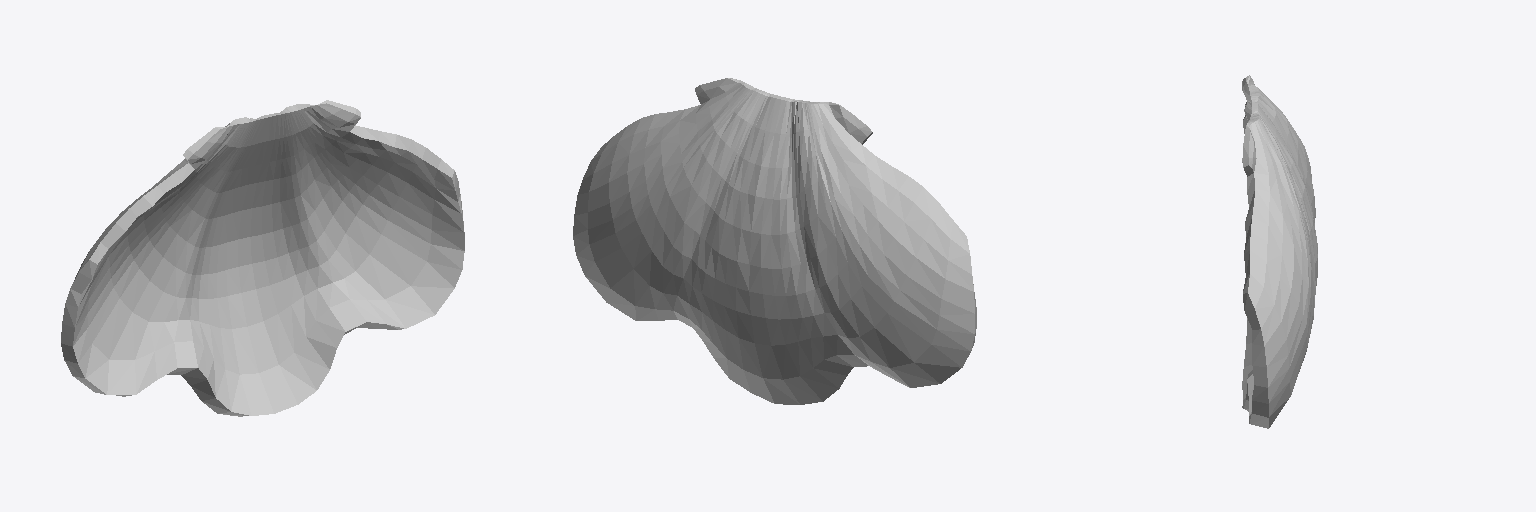
The model's file is clam_v3.OBJ.
3 renders of one model, left to right at view 1: azimuth 30°, elevation 25°; view 2: azimuth 150°, elevation 25°; view 3: azimuth 270°, elevation 25°, orthographic.
Visible parts, largest first — view 1: ZBrushPolyMesh3D; view 2: ZBrushPolyMesh3D; view 3: ZBrushPolyMesh3D.
Part boxes in pixels (x1,y1,x2,y2): ZBrushPolyMesh3D: (61, 100, 464, 416); ZBrushPolyMesh3D: (573, 78, 976, 404); ZBrushPolyMesh3D: (1242, 75, 1317, 428).
Bounding box in the file's own units: 13.47 × 9.82 × 2.19.